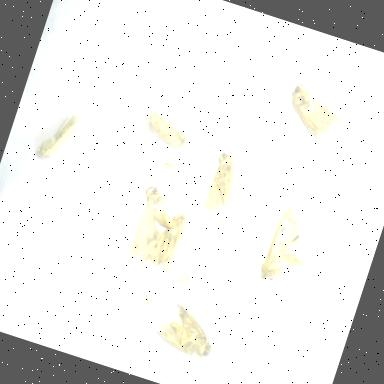abw: (118, 168, 194, 274), (253, 200, 326, 296), (275, 76, 353, 156), (147, 291, 226, 366), (131, 200, 194, 286), (196, 146, 252, 230), (30, 103, 88, 172), (134, 104, 196, 156)
